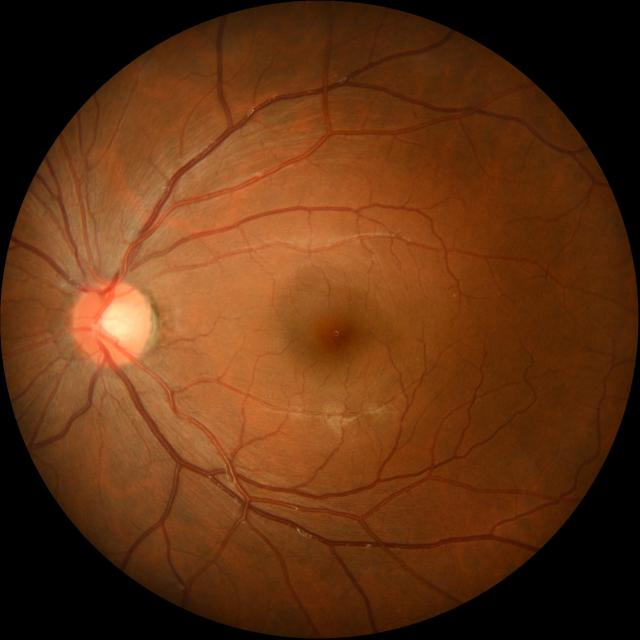OC: (100, 303, 136, 343)
OD: (70, 281, 150, 365)
